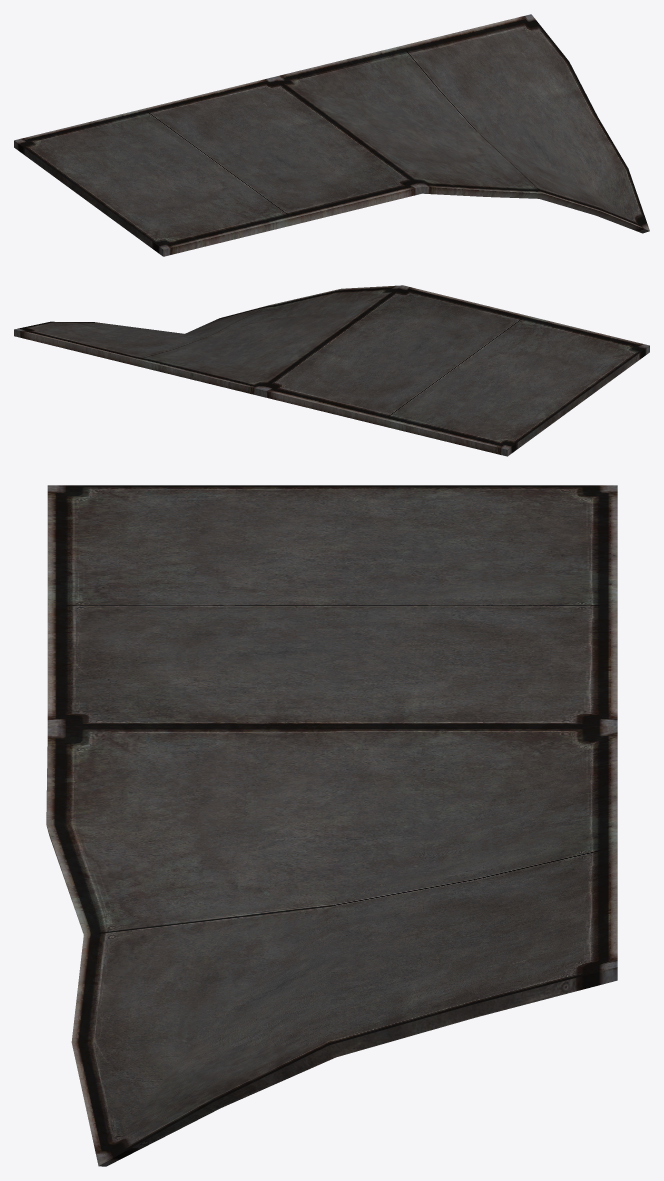
The model's file is pptiling_damaged01.dae.
3 renders of one model, top to bottom at view 1: azimuth 30°, elevation 25°; view 2: azimuth 150°, elevation 25°; view 3: azimuth 270°, elevation 25°, orthographic. The views are drawn at different scales.
Visible parts, largest first — view 1: pCube1; view 2: pCube1; view 3: pCube1.
Boxes of the visible parts, x1,y1,x2,y2 form: pCube1: [14, 14, 649, 256]; pCube1: [14, 285, 649, 456]; pCube1: [46, 485, 617, 1166].
Size of the model in its own units: 4 by 0.8552 by 2.01.
